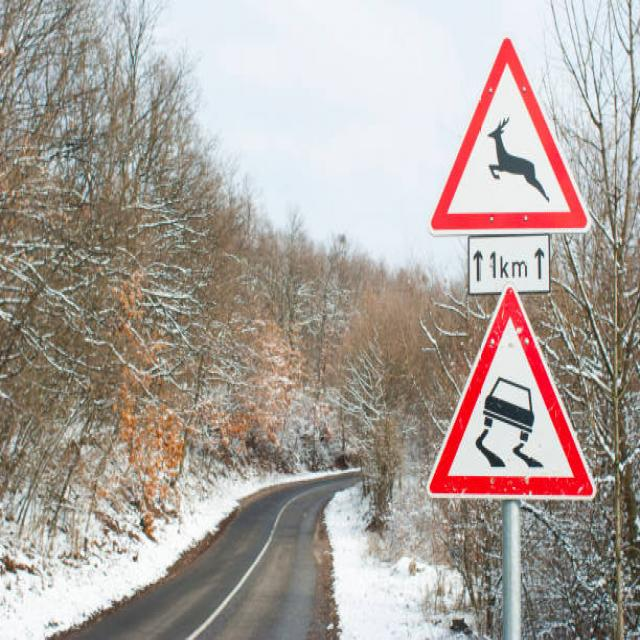road_slippery: (424, 284, 598, 509)
